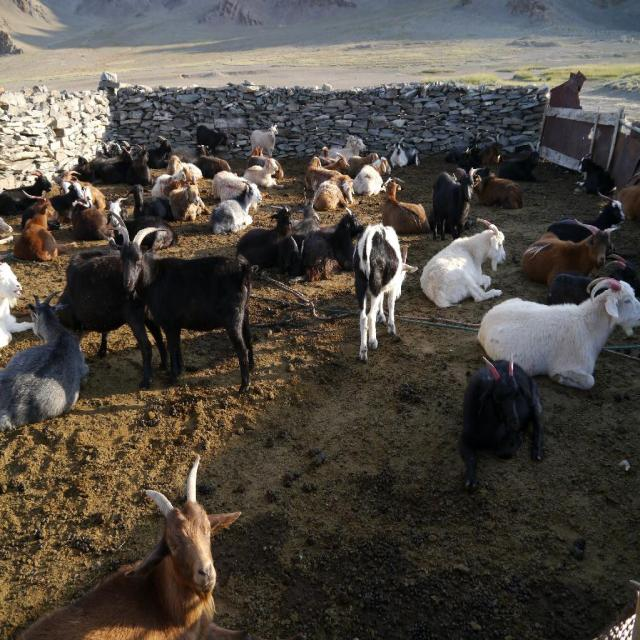Goat: (0, 124, 640, 640)
